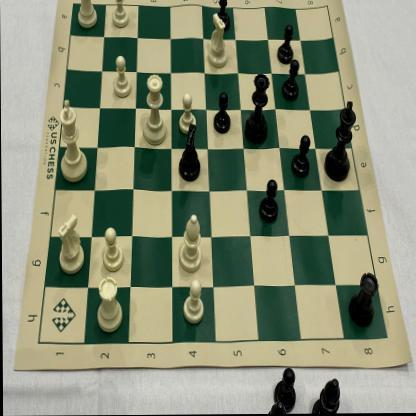black-king: (321, 96, 358, 187)
black-knight: (172, 123, 203, 185)
black-pawn: (257, 180, 282, 230), (288, 135, 314, 179), (278, 60, 302, 103), (274, 22, 295, 67), (212, 90, 232, 137), (211, 0, 234, 32)
black-queen: (241, 69, 271, 147)
black-rook: (346, 265, 379, 331)
white-bishop: (175, 211, 205, 275)
white-king: (54, 97, 89, 185)
white-knight: (53, 213, 87, 277), (205, 10, 230, 74)
white-pawn: (180, 275, 208, 327), (99, 225, 125, 275), (176, 89, 200, 136), (110, 57, 133, 100), (110, 0, 131, 30)
white-queen: (139, 68, 168, 150)
white-rook: (93, 274, 126, 335), (71, 0, 100, 32)
